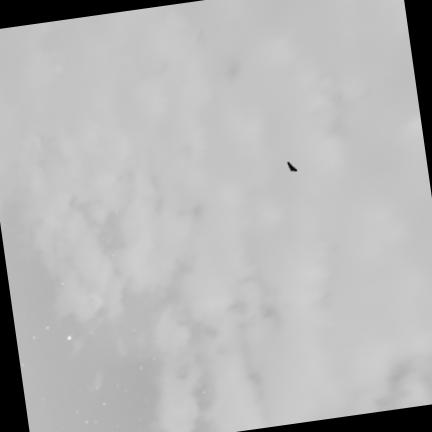Shahed: (286, 161, 296, 171)
